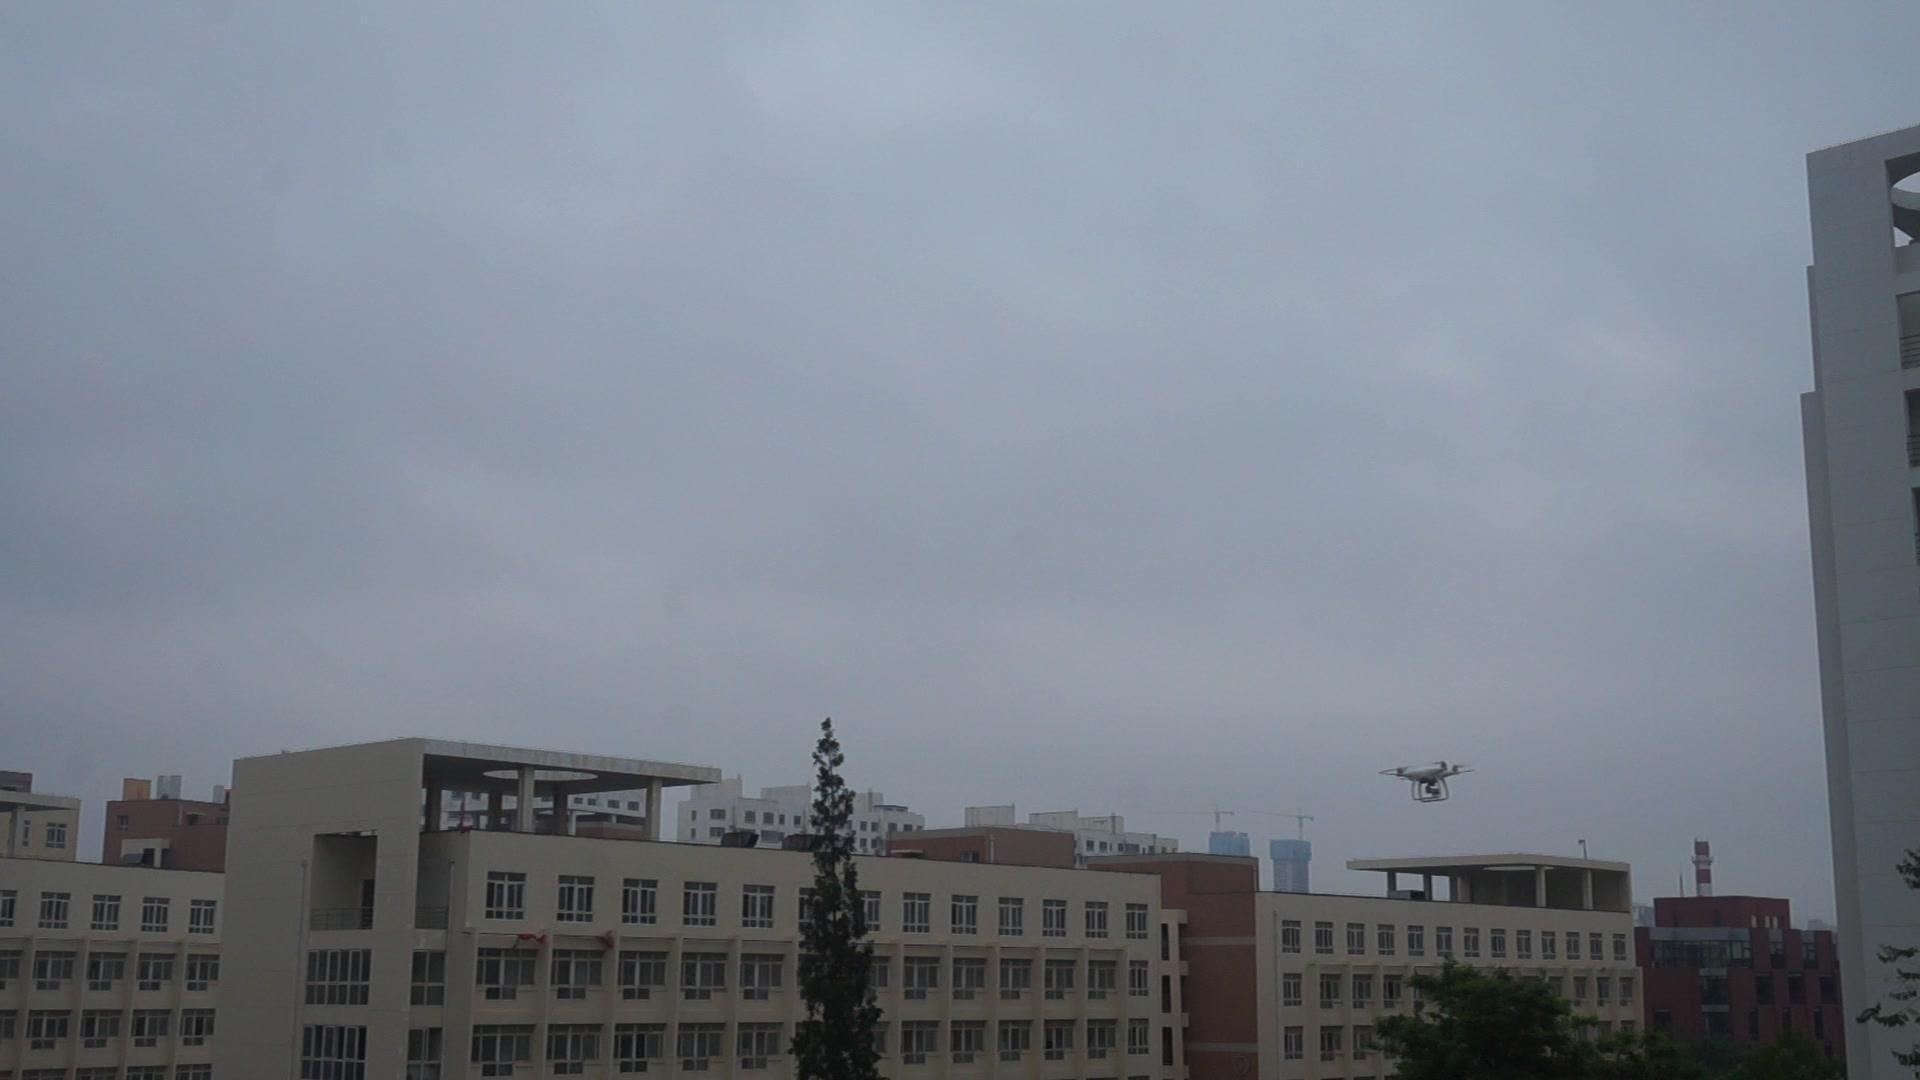UAV: (1379, 761, 1476, 804)
